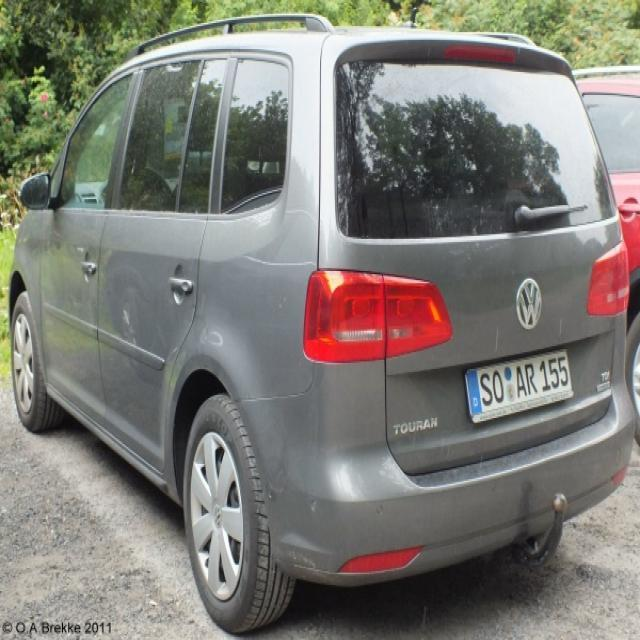license-plates: (466, 352, 575, 424)
